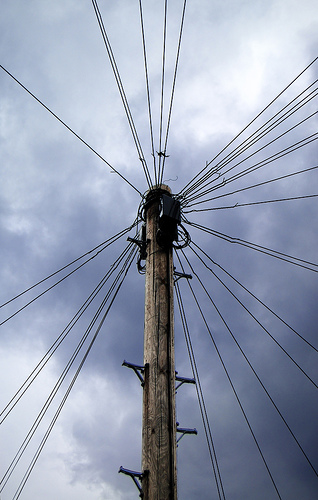pole: (125, 171, 202, 478)
